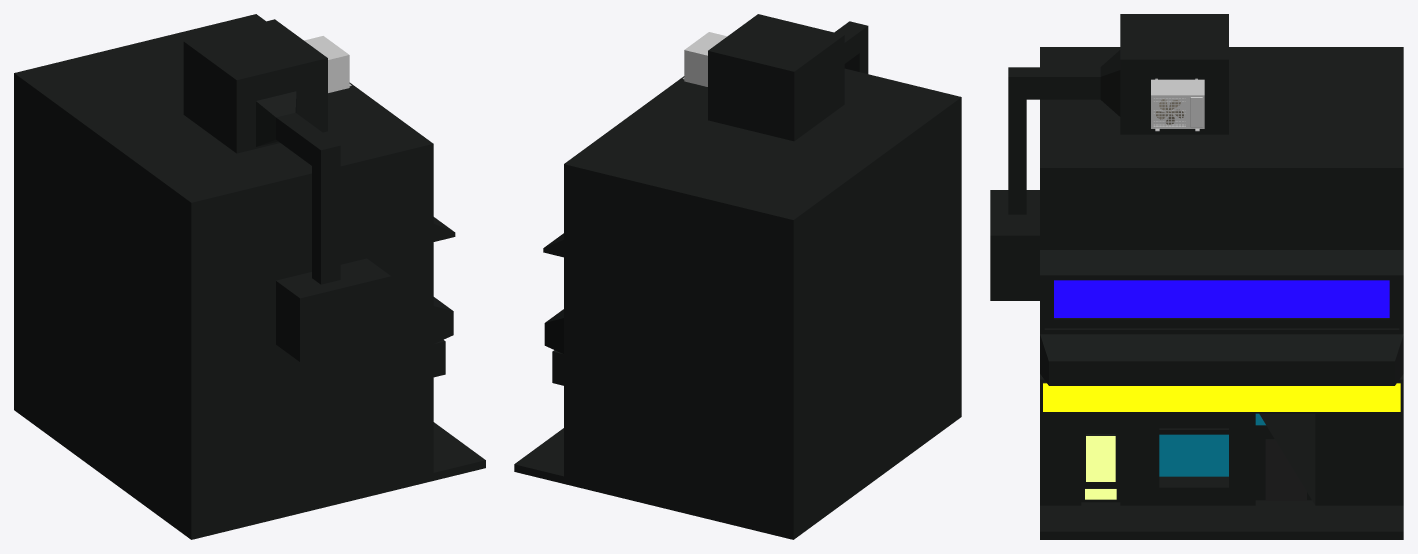
The model's file is BLUD3NEW.fbx.
The picture shows the model from 3 angles, left to right: view 1: azimuth 30°, elevation 25°; view 2: azimuth 150°, elevation 25°; view 3: azimuth 270°, elevation 25°; orthographic projection. The views are drawn at different scales.
Parts seen in each view (by area): view 1: Cube.046; view 2: Cube.046; view 3: Cube.046.
Boxes of the visible parts, x1=… form: Cube.046: x1=14, y1=14, x2=485, y2=539; Cube.046: x1=514, y1=14, x2=961, y2=539; Cube.046: x1=990, y1=14, x2=1403, y2=539.
Size of the model in its own units: 358 by 477 by 425.
